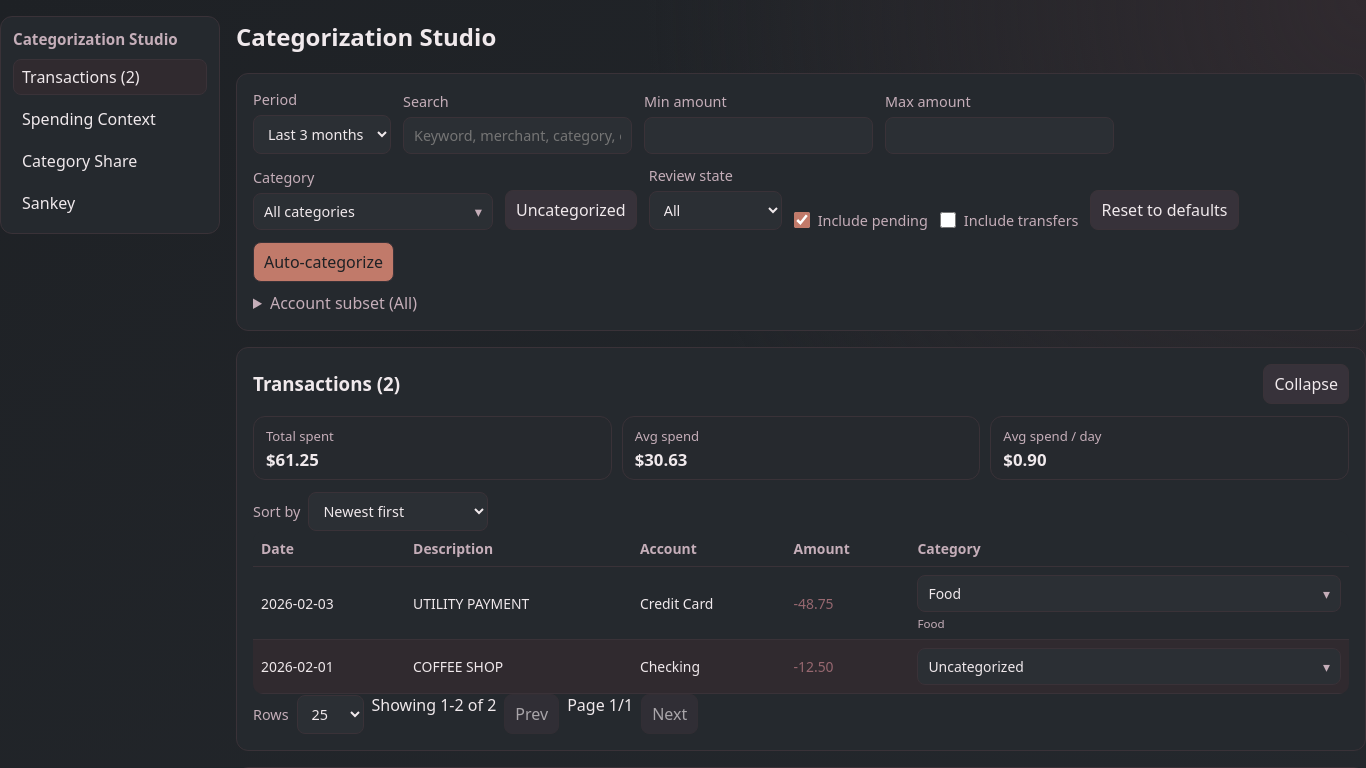
CategorizePage › filters studio rows with the transaction search field
This screenshot has width=1366, height=768.
Expected: the text "COFFEE SHOP" is shown, [405,640,632,694]
Expected: the text "UTILITY PAYMENT" is shown, [405,567,632,640]
Type "cofee" into the field with placeholder "Keyword, merchant, category, or similar text" at (518, 135), box [403,117,632,154]
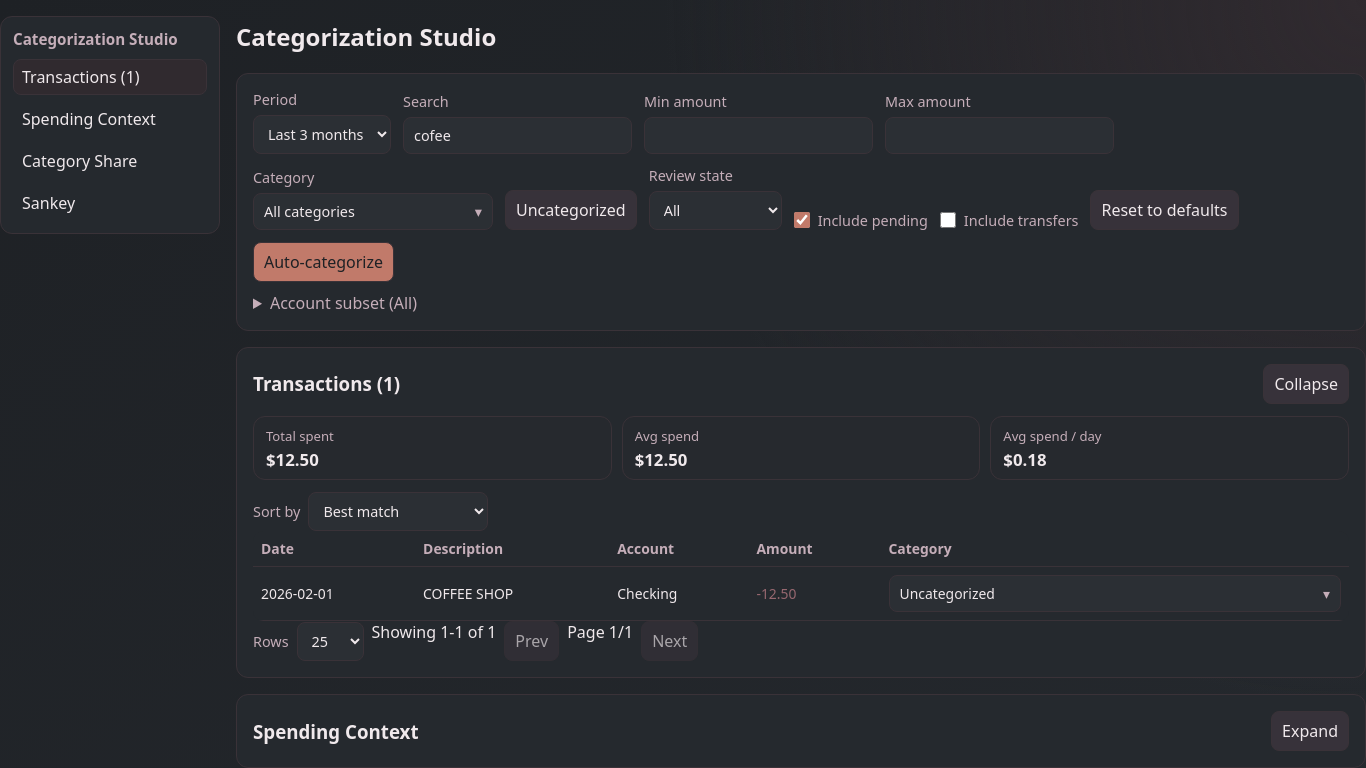
Expected: the text "COFFEE SHOP" is shown, [415,567,609,621]
Expected: the text "UTILITY PAYMENT" is gone
